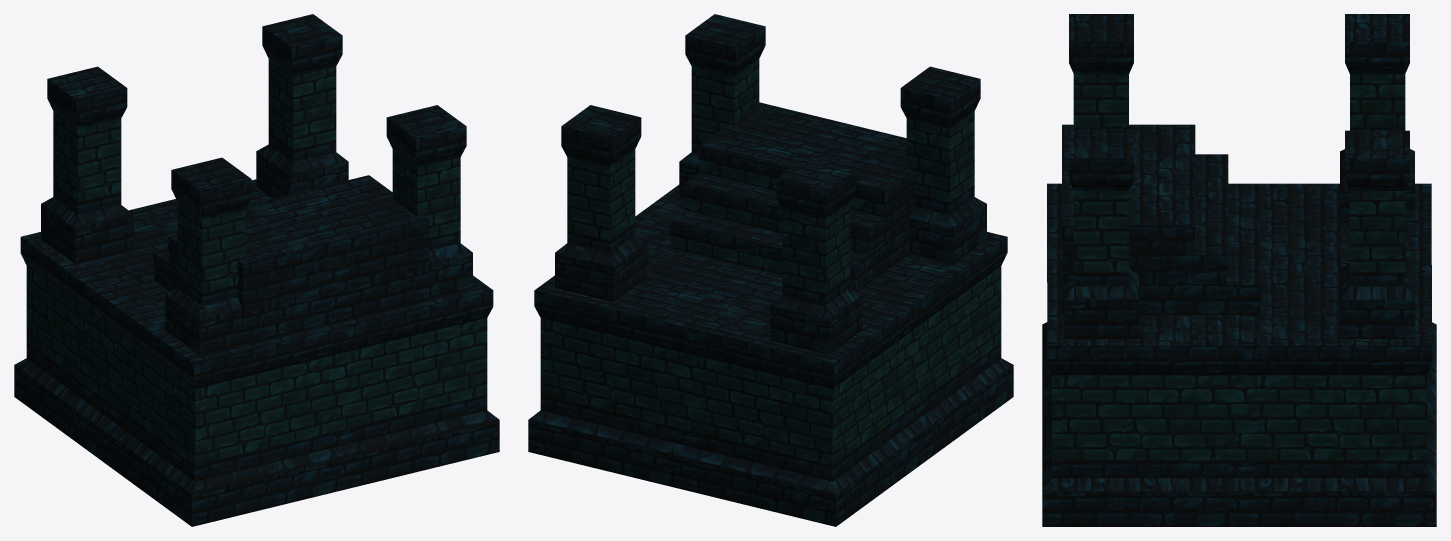
The model's file is tile-end.glb.
The picture shows the model from 3 angles, left to right: view 1: azimuth 30°, elevation 25°; view 2: azimuth 150°, elevation 25°; view 3: azimuth 270°, elevation 25°; orthographic projection. The views are drawn at different scales.
Parts seen in each view (by area): view 1: mergedBlocks(Clone); view 2: mergedBlocks(Clone); view 3: mergedBlocks(Clone).
Part boxes in pixels (x1,y1,x2,y2): mergedBlocks(Clone): (14,14,499,526); mergedBlocks(Clone): (528,14,1013,526); mergedBlocks(Clone): (1042,14,1436,526).
Bounding box in the file's own units: 2 × 2 × 2.
2 materials, 2 textured.
